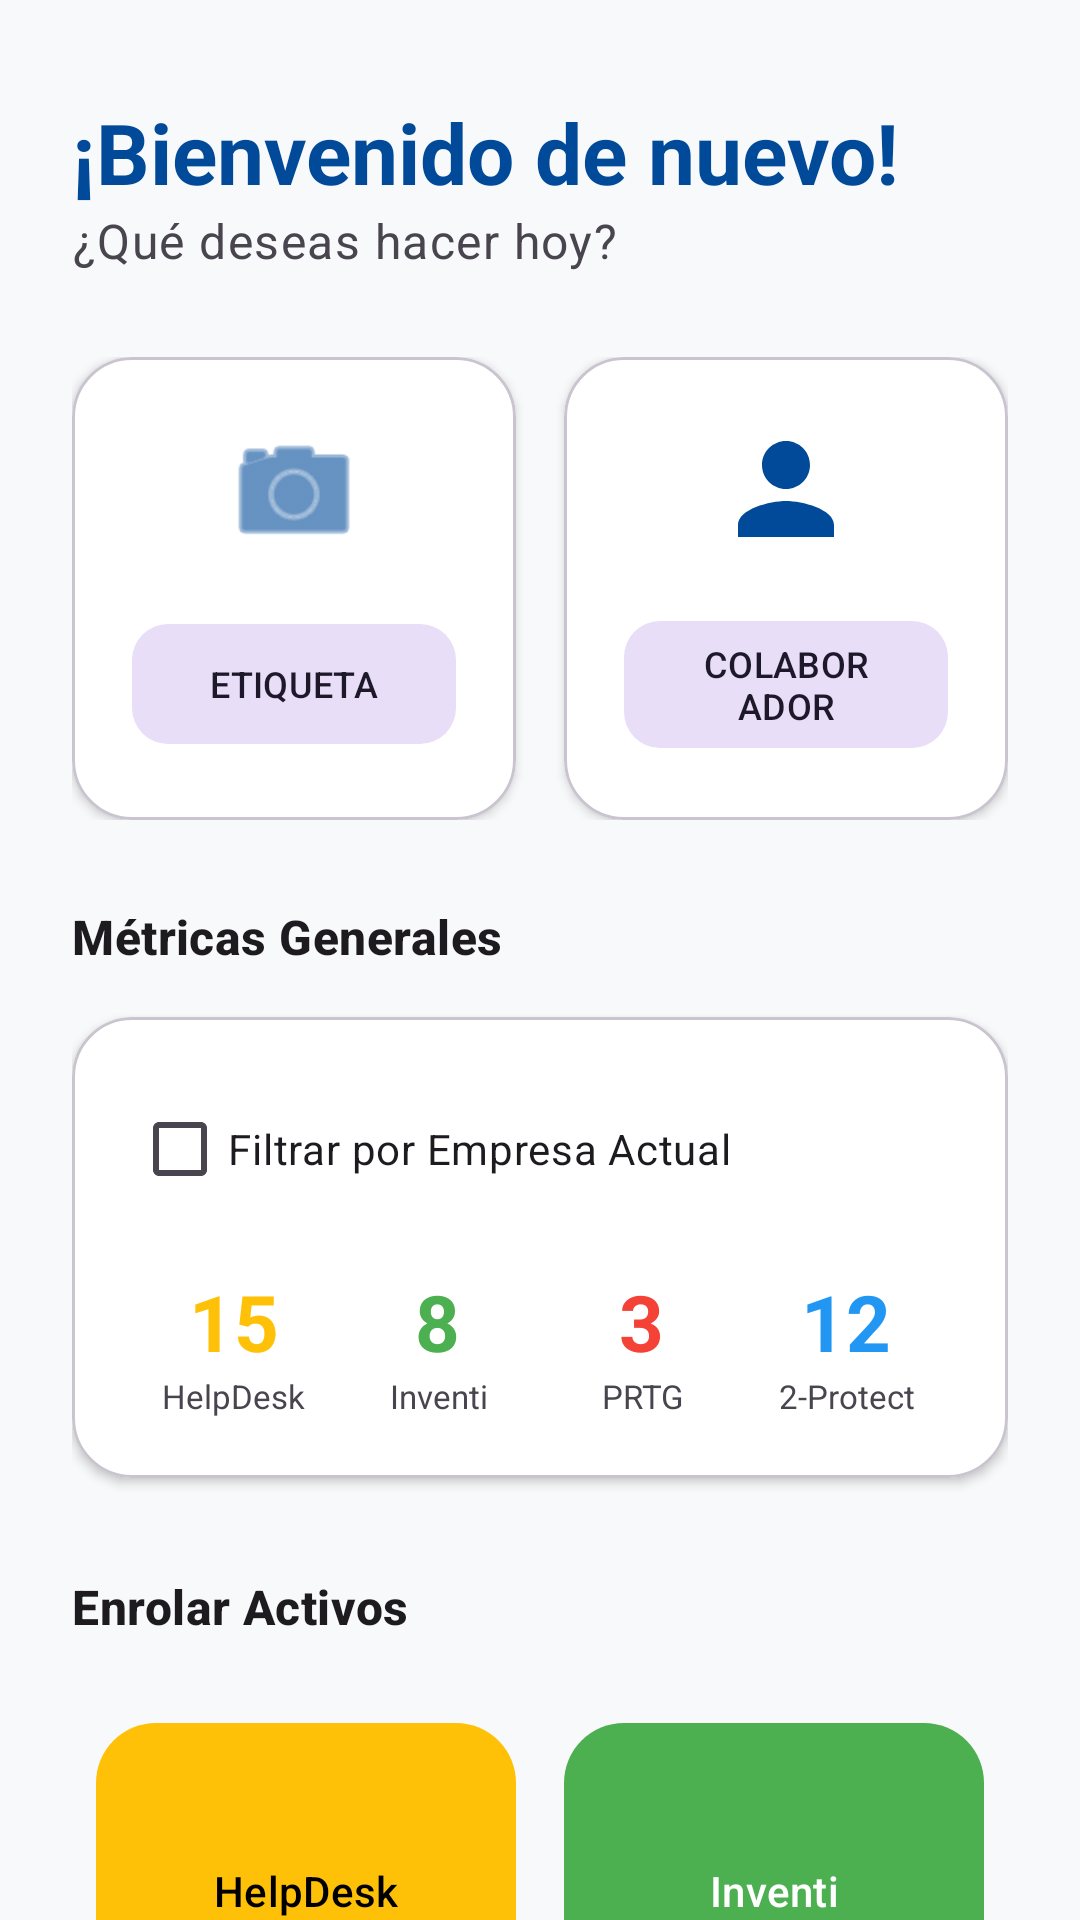

Where to tap for icons on this 1080×1920 app screen, as (x,y):
camera: (294,489)
user: (786,489)
